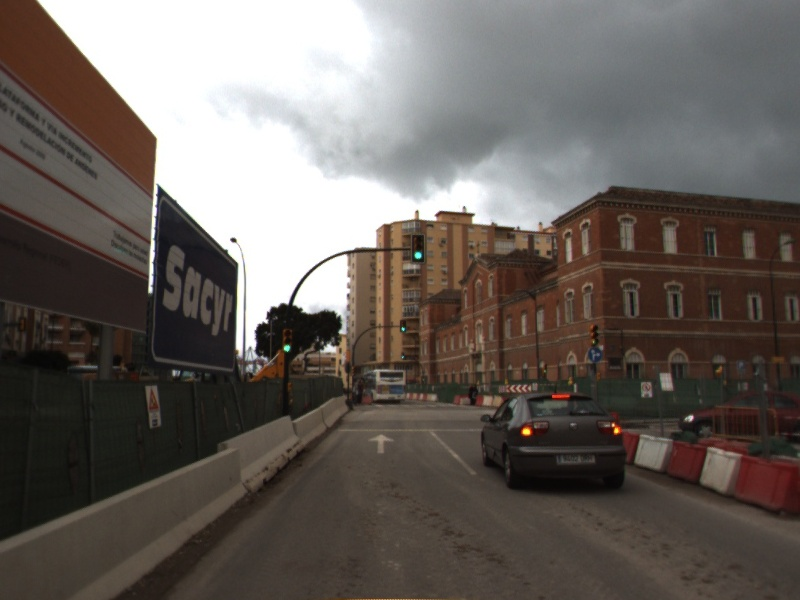STRAIGHT: (366, 432, 397, 455)
